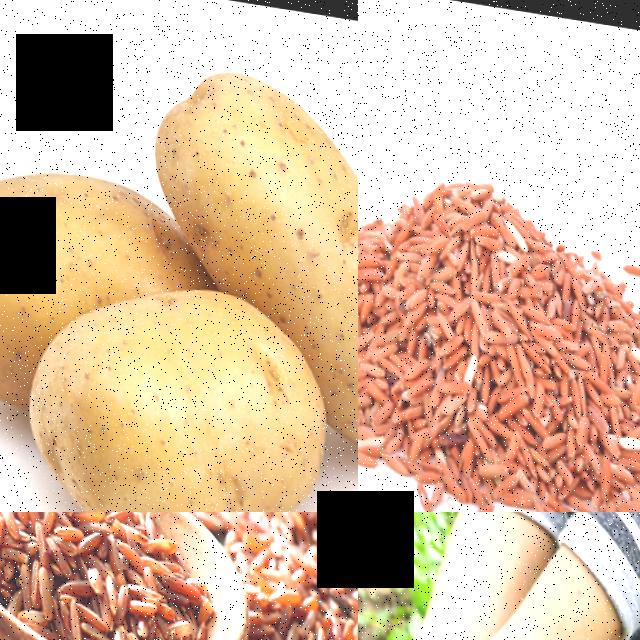potato: (12, 260, 327, 512), (132, 38, 358, 316), (0, 150, 33, 415)
red rice: (358, 143, 640, 512), (0, 512, 199, 640), (222, 512, 358, 640)
